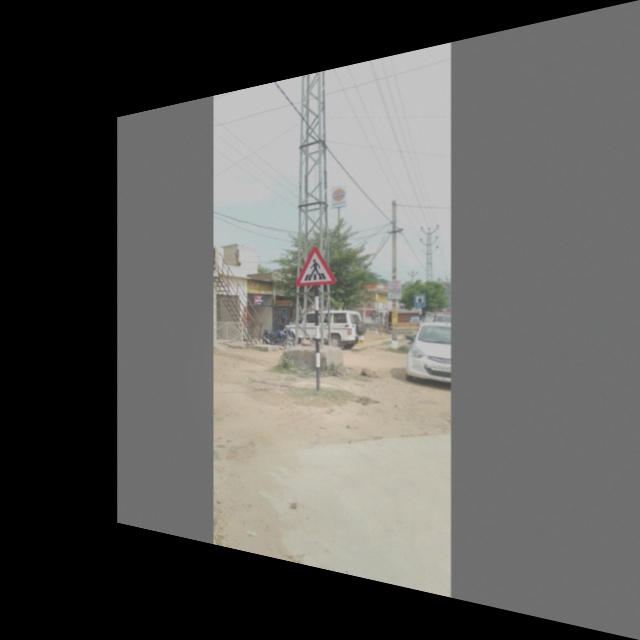Pedestrian_Crossing: (293, 243, 338, 290)
